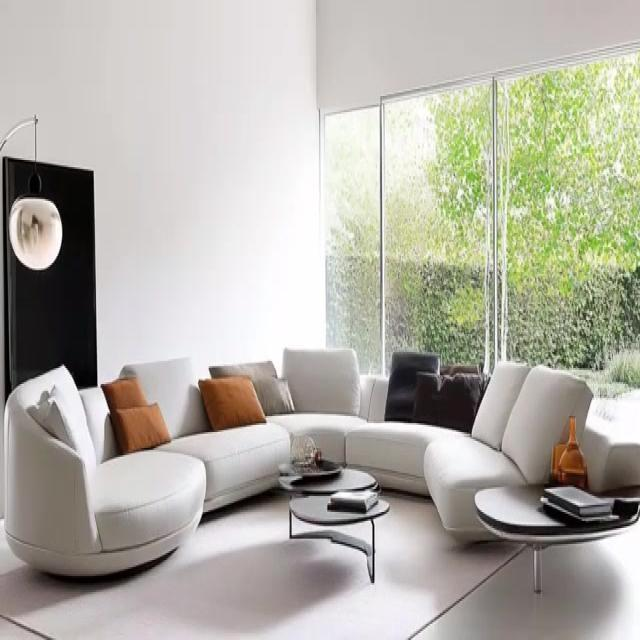obstacle: (4, 346, 639, 580), (473, 482, 639, 592)
